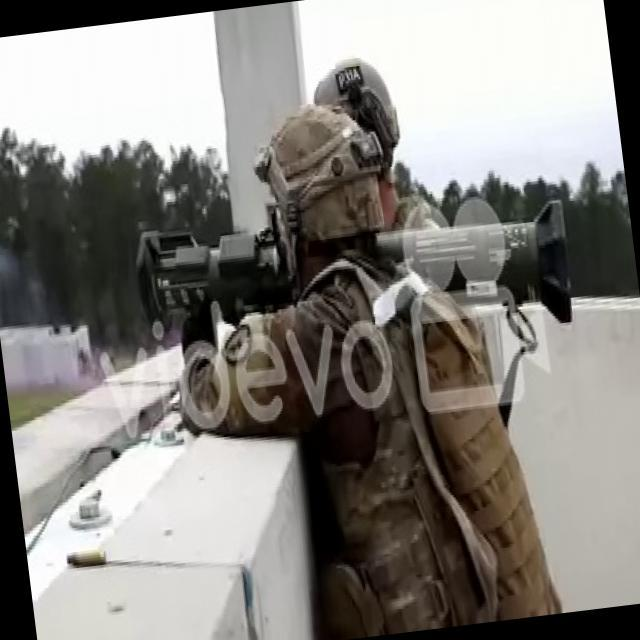rocket: (129, 174, 575, 372)
